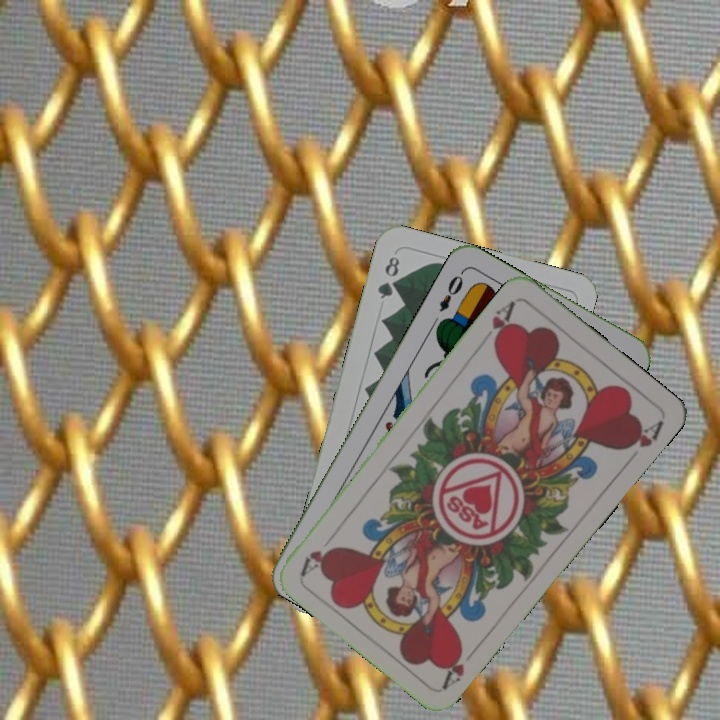EO: (434, 267, 467, 315)
G8: (373, 252, 402, 302)
HA: (438, 640, 482, 691), (487, 296, 518, 350)
